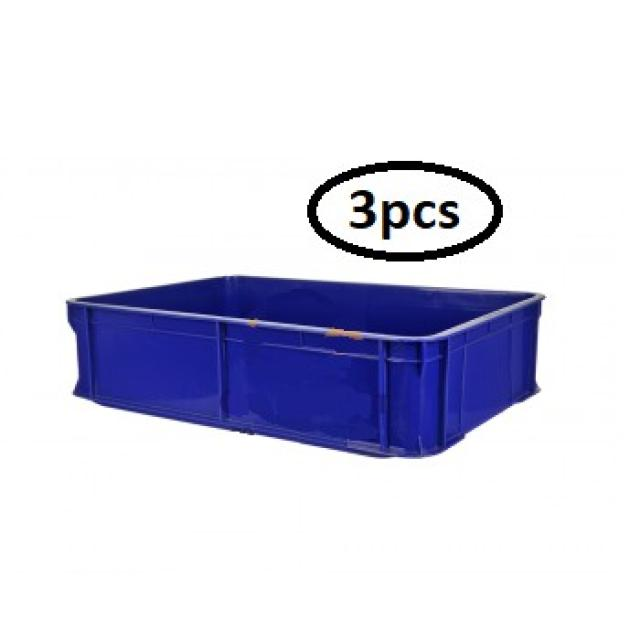basket: (60, 266, 545, 464)
